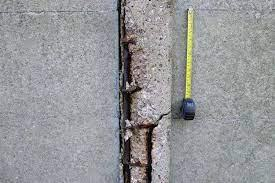Exposed reinforcement: (120, 7, 132, 183), (145, 128, 154, 183), (123, 123, 159, 130), (121, 86, 143, 96), (124, 161, 149, 168), (120, 40, 136, 46)
Spalling: (116, 1, 173, 183)
